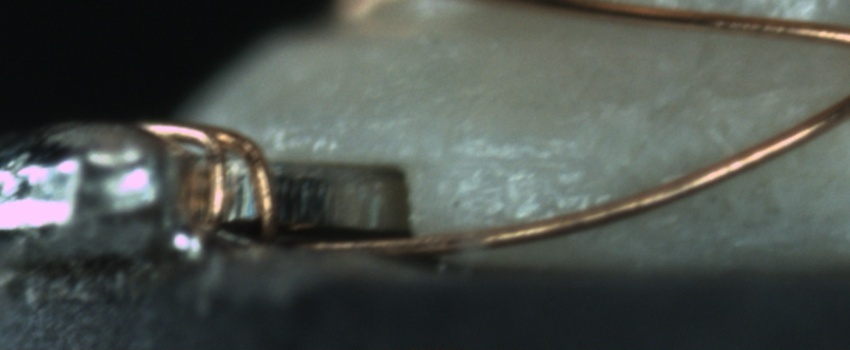DL: (462, 134, 587, 192)
TE: (135, 113, 288, 253)
